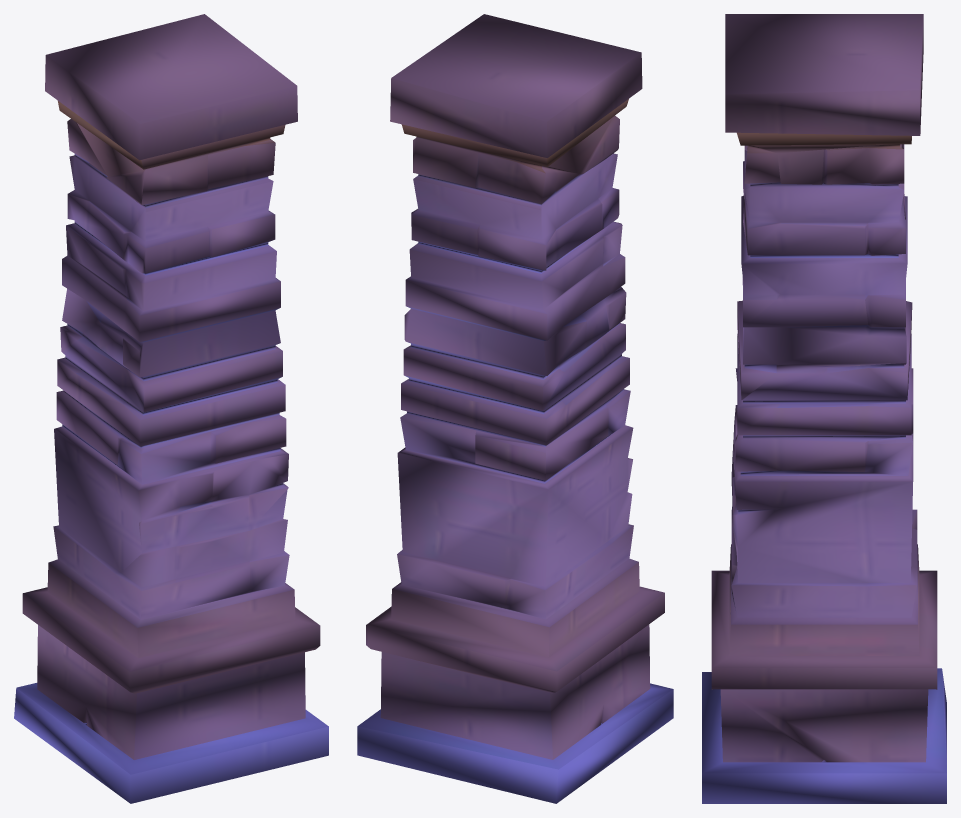
The model's file is model.progressive.glb.
The picture shows the model from 3 angles, left to right: view 1: azimuth 30°, elevation 25°; view 2: azimuth 150°, elevation 25°; view 3: azimuth 270°, elevation 25°; orthographic projection. The views are drawn at different scales.
Visible parts, largest first — view 1: material; view 2: material; view 3: material.
Part boxes in pixels (left/top/right/bottom): material: left=14, top=14, right=328, bottom=803; material: left=357, top=14, right=673, bottom=803; material: left=702, top=14, right=946, bottom=803.
Bounding box in the file's own units: 0.5839 × 1.89 × 0.5955.
Materials: 1 (1 with a texture image).
